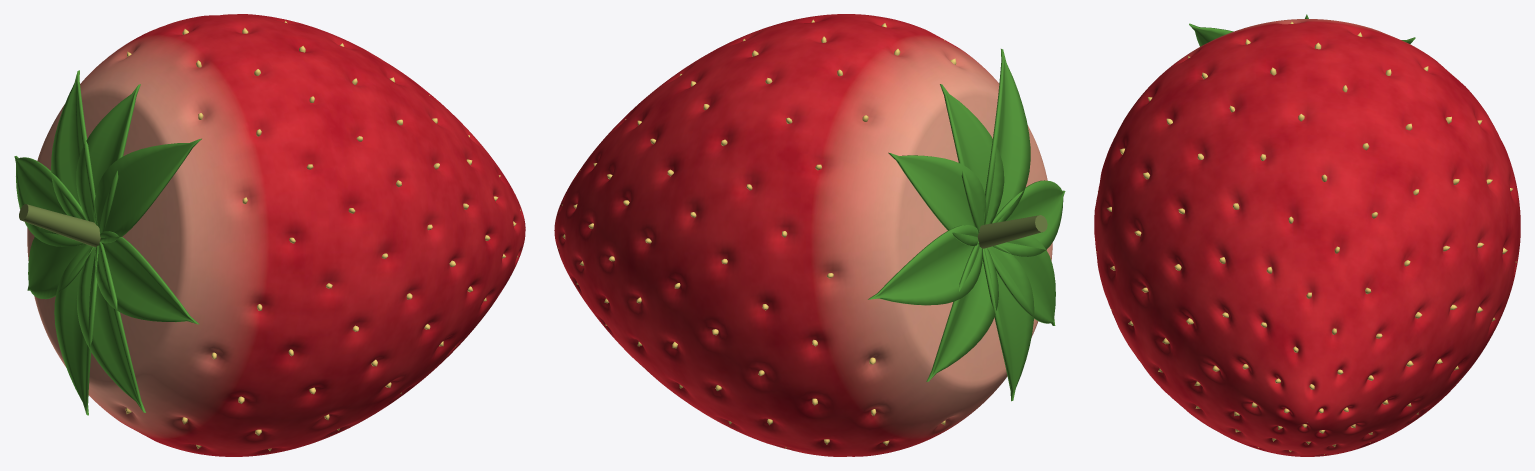
File: strawberry.glb
The picture shows the model from 3 angles, left to right: view 1: azimuth 30°, elevation 25°; view 2: azimuth 150°, elevation 25°; view 3: azimuth 270°, elevation 25°; orthographic projection. The views are drawn at different scales.
Parts seen in each view (by area): view 1: strawberry; view 2: strawberry; view 3: strawberry.
Part boxes in pixels (x1,y1,x2,y2): strawberry: (14, 14, 525, 456); strawberry: (554, 14, 1065, 456); strawberry: (1094, 14, 1520, 456).
Size of the model in its own units: 2 by 1.56 by 1.56.
4 materials, 1 textured.
